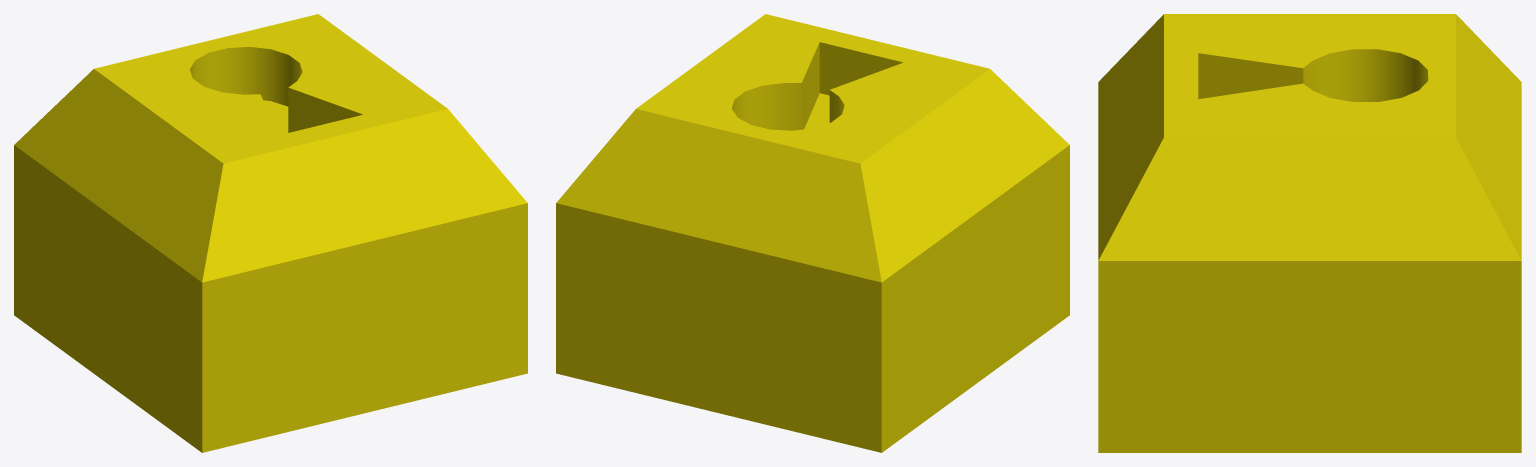
Rendered from Key Block.fbx.
3 renders of one model, left to right at view 1: azimuth 30°, elevation 25°; view 2: azimuth 150°, elevation 25°; view 3: azimuth 270°, elevation 25°, orthographic. The views are drawn at different scales.
Parts seen in each view (by area): view 1: BlockerLQ; view 2: BlockerLQ; view 3: BlockerLQ.
Part boxes in pixels (left/top/right/bottom): BlockerLQ: left=14, top=14, right=527, bottom=452; BlockerLQ: left=556, top=14, right=1069, bottom=452; BlockerLQ: left=1098, top=14, right=1521, bottom=452.
Size of the model in its own units: 1 by 0.75 by 1.
